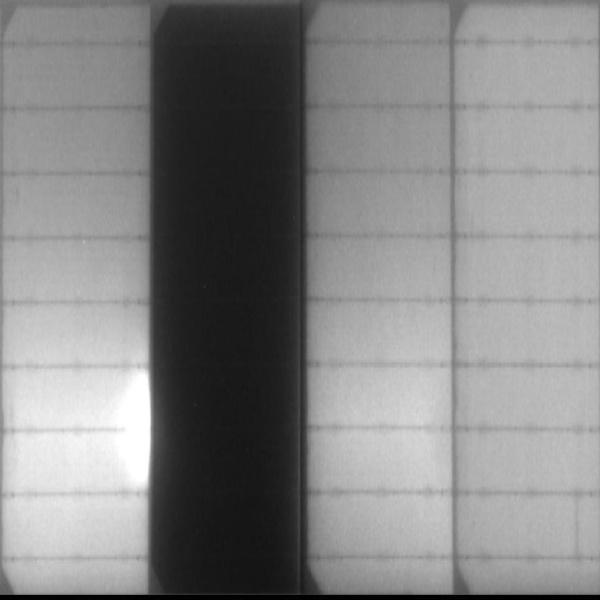hot_spot: (114, 374, 149, 493)
no_electricity: (152, 4, 308, 599)
